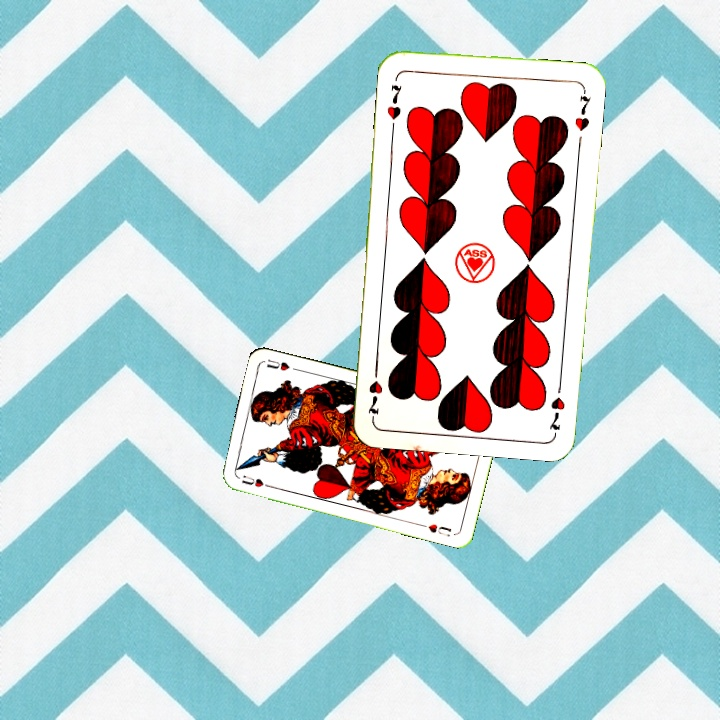H7: (545, 376, 568, 435), (383, 80, 405, 123)
HU: (237, 471, 266, 490)
